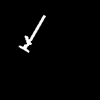double_crochet: (19, 16, 45, 51)
